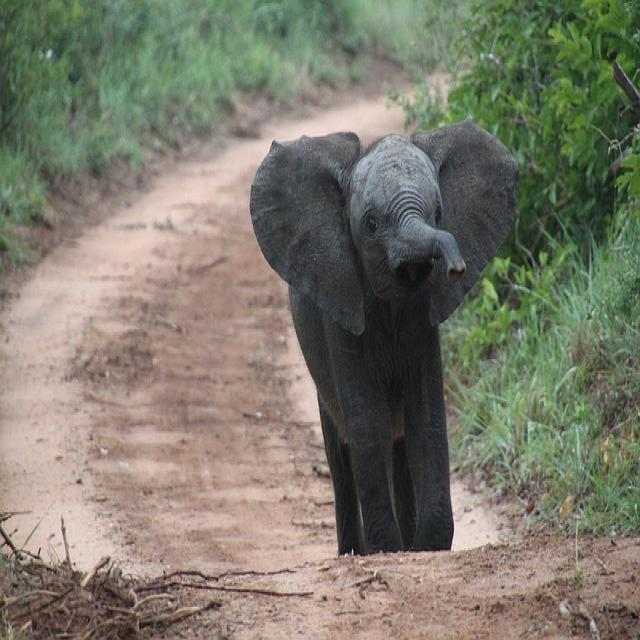elephant: (250, 122, 519, 553)
